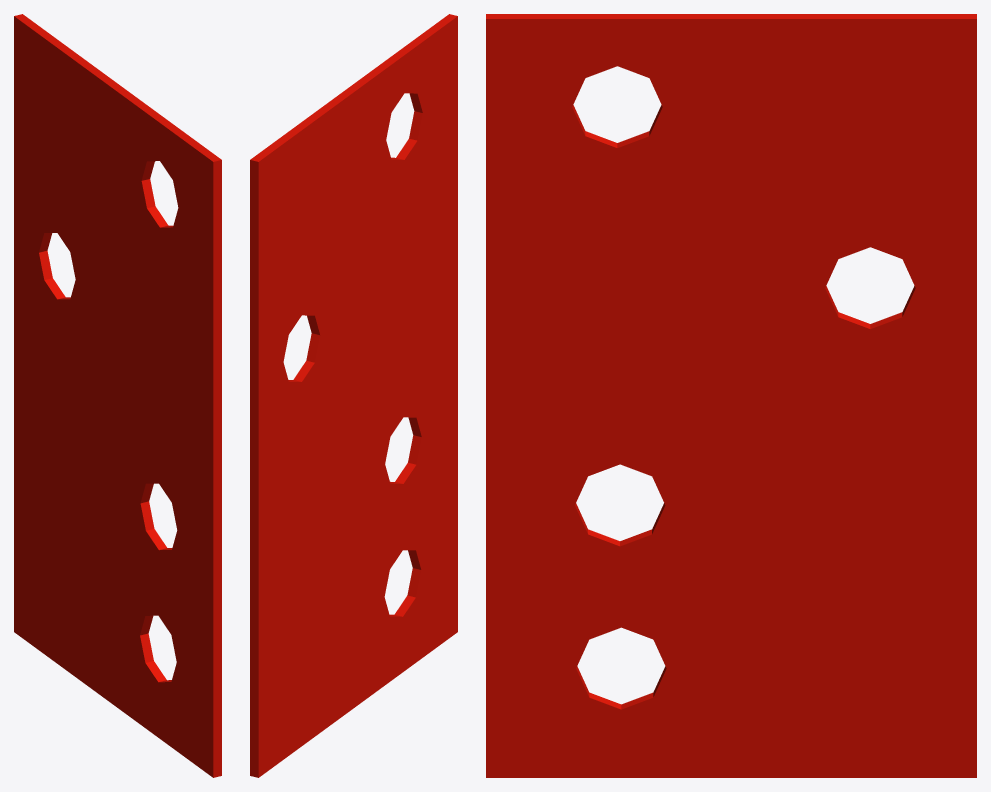
File: board05.fbx
3 renders of one model, left to right at view 1: azimuth 30°, elevation 25°; view 2: azimuth 150°, elevation 25°; view 3: azimuth 270°, elevation 25°, orthographic. The views are drawn at different scales.
Parts seen in each view (by area): view 1: Plane.012; view 2: Plane.012; view 3: Plane.012.
Part boxes in pixels (x1,y1,x2,y2): Plane.012: (14,14,221,777); Plane.012: (250,14,457,777); Plane.012: (486,14,976,777).
Bounding box in the file's own units: 9 × 617 × 362.
